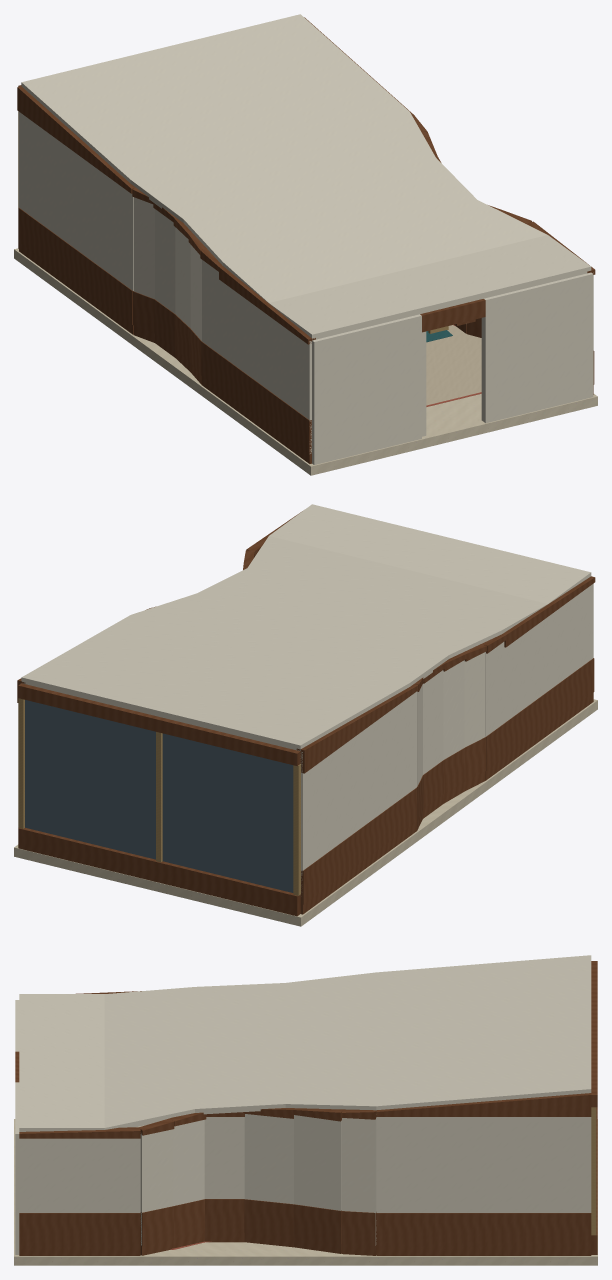
Rendered from shell.glb.
3 views of the same model, one above another, from view 1: azimuth 30°, elevation 25°; view 2: azimuth 150°, elevation 25°; view 3: azimuth 270°, elevation 25° (orthographic).
Parts seen in each view (by area): view 1: SA_Runtime_ivory_enamel, SA_Runtime_warm_walnut, SA_Runtime_warm_stone, SA_Runtime_oatmeal_weave; view 2: SA_Runtime_ivory_enamel, SA_Runtime_SA_SourceDirectionalPrivacy_NOT_RUNTIME_ACCEPTED, SA_Runtime_warm_walnut, SA_Runtime_warm_stone, SA_Runtime_champagne_metal; view 3: SA_Runtime_ivory_enamel, SA_Runtime_warm_walnut, SA_Runtime_warm_stone, SA_Runtime_champagne_metal.
Part boxes in pixels (x1=…): SA_Runtime_ivory_enamel: x1=19, y1=14, x2=593, y2=464; SA_Runtime_warm_walnut: x1=17, y1=17, x2=595, y2=463; SA_Runtime_warm_stone: x1=14, y1=248, x2=597, y2=475; SA_Runtime_oatmeal_weave: x1=426, y1=325, x2=481, y2=405; SA_Runtime_ivory_enamel: x1=21, y1=504, x2=593, y2=885; SA_Runtime_SA_SourceDirectionalPrivacy_NOT_RUNTIME_ACCEPTED: x1=25, y1=700, x2=293, y2=892; SA_Runtime_warm_walnut: x1=17, y1=511, x2=595, y2=916; SA_Runtime_warm_stone: x1=14, y1=699, x2=597, y2=926; SA_Runtime_champagne_metal: x1=18, y1=698, x2=300, y2=895; SA_Runtime_ivory_enamel: x1=15, y1=955, x2=591, y2=1254; SA_Runtime_warm_walnut: x1=15, y1=961, x2=597, y2=1255; SA_Runtime_warm_stone: x1=14, y1=1119, x2=597, y2=1265; SA_Runtime_champagne_metal: x1=591, y1=1107, x2=596, y2=1235.
Bounding box in the file's own units: 7.2 × 4.26 × 12.9.
9 materials, 7 textured.
